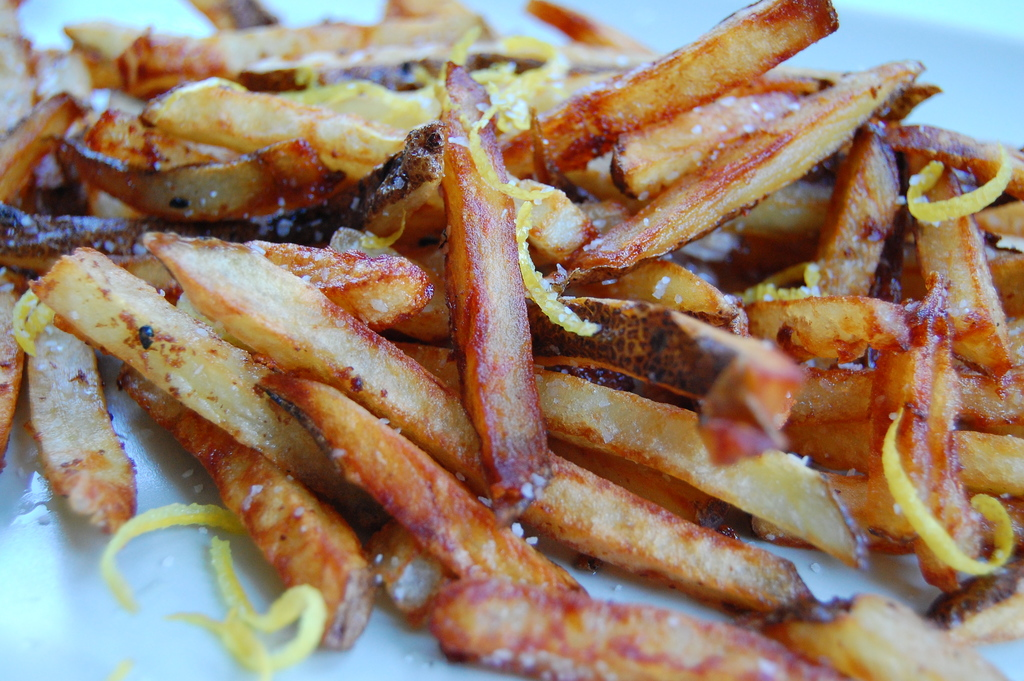French fries: (0, 0, 1024, 681)
